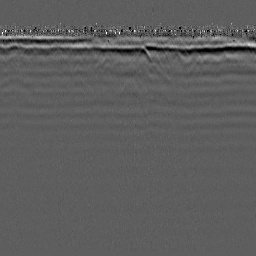cavity: (120, 76, 141, 95)
